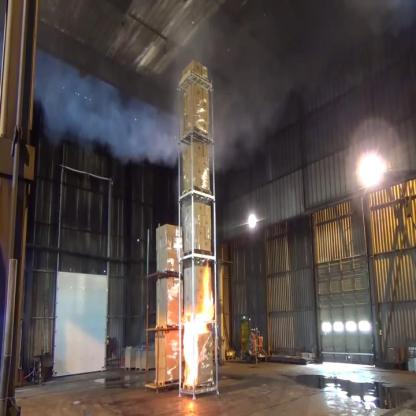fire: (179, 258, 218, 396)
